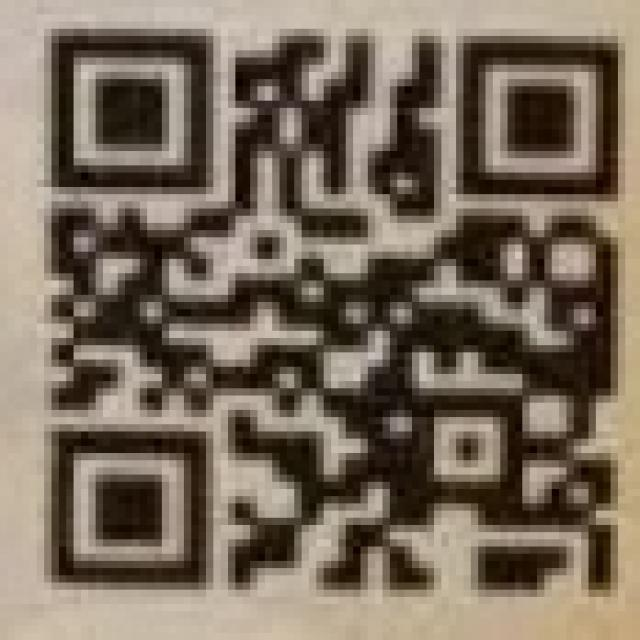QR_CODE: (46, 29, 621, 602)
